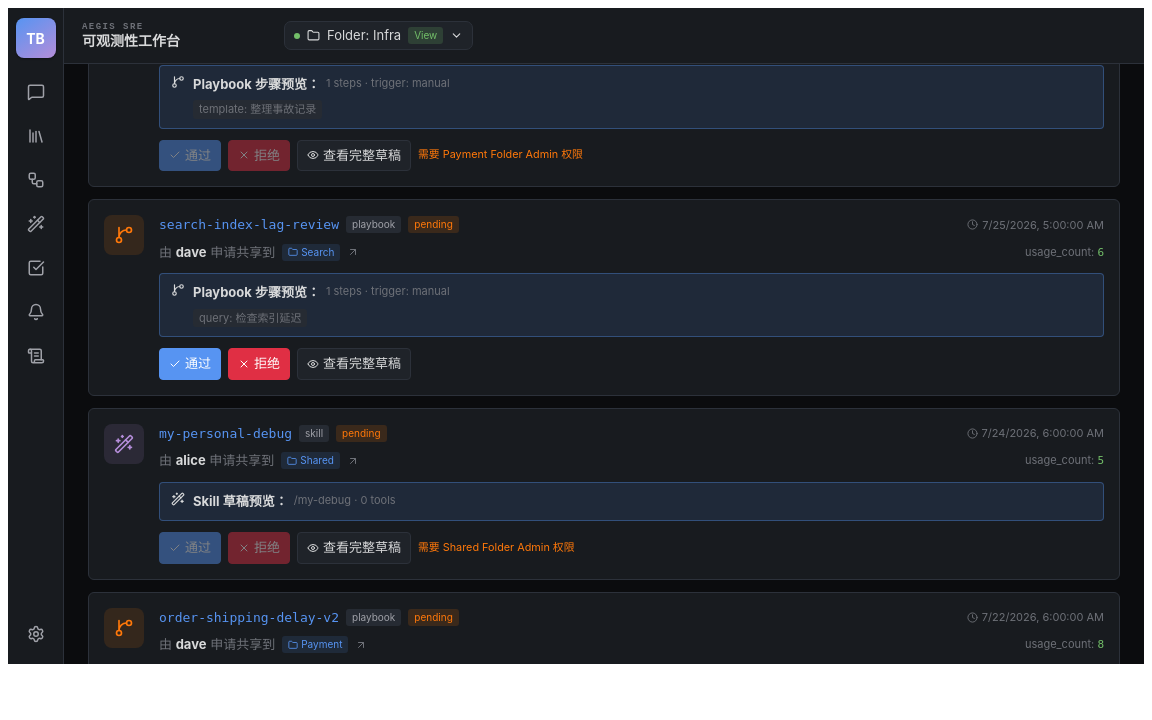
Scenario: ApprovalsPage › reloads using the latest filter after a decision started on an older view
(page scrolled)
Click the button "通过" below "query" at (190, 364), box 159,348 -> 221,380
(page scrolled)
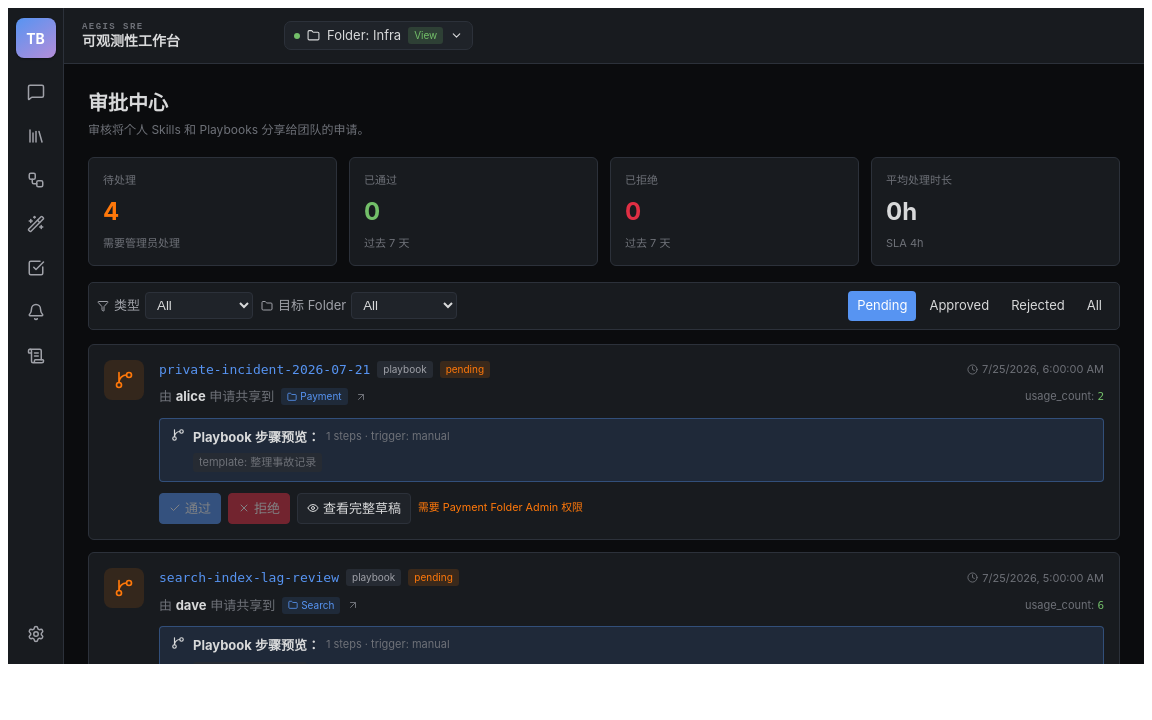
Click the button "approved" at (959, 306), box 920,291 -> 998,320
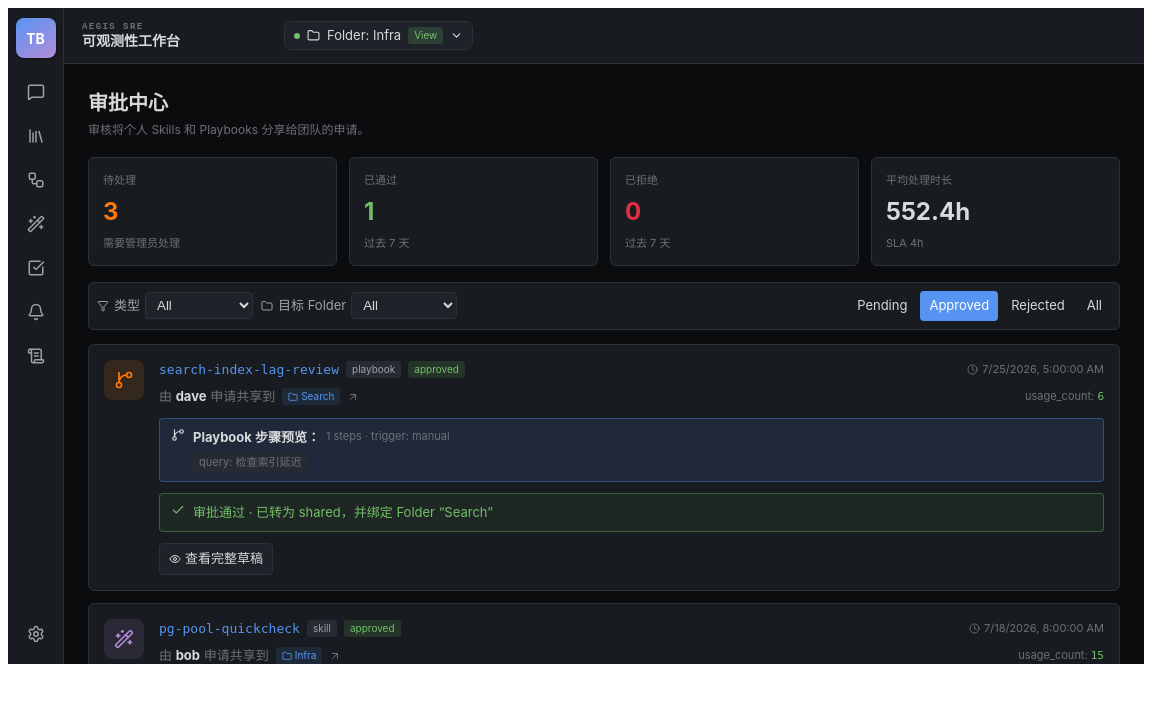
Expected: the text "search-index-lag-review" is shown, 159,360 -> 339,379
